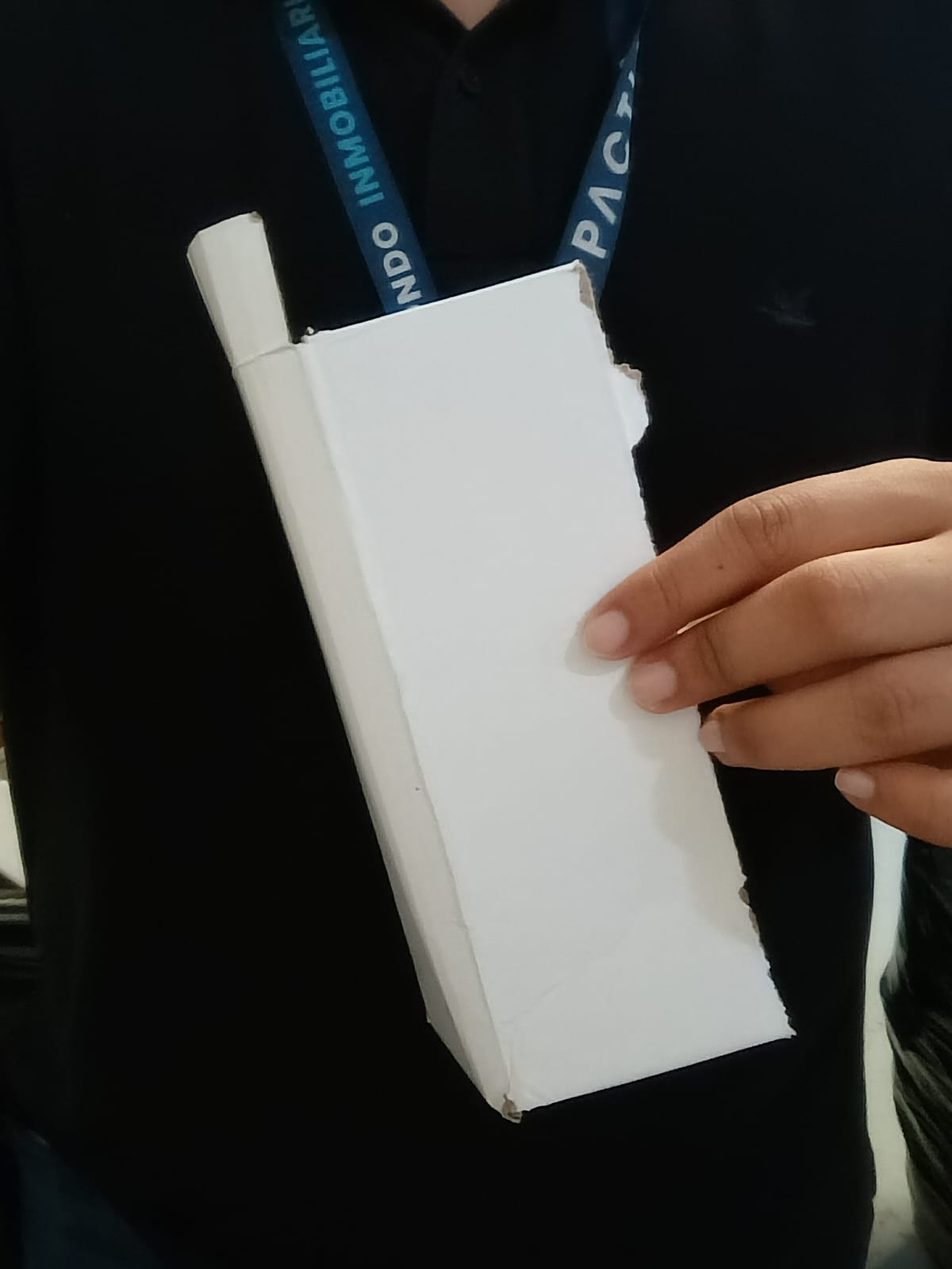Carton: (186, 205, 795, 1119)
